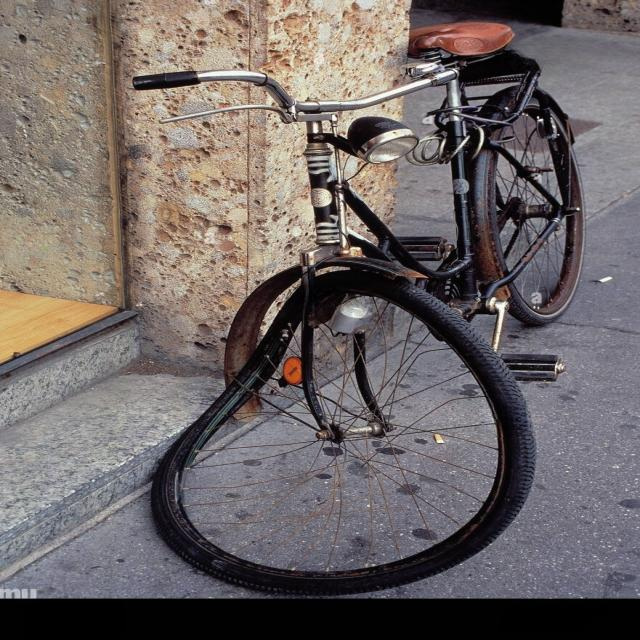accident: (132, 21, 584, 594)
